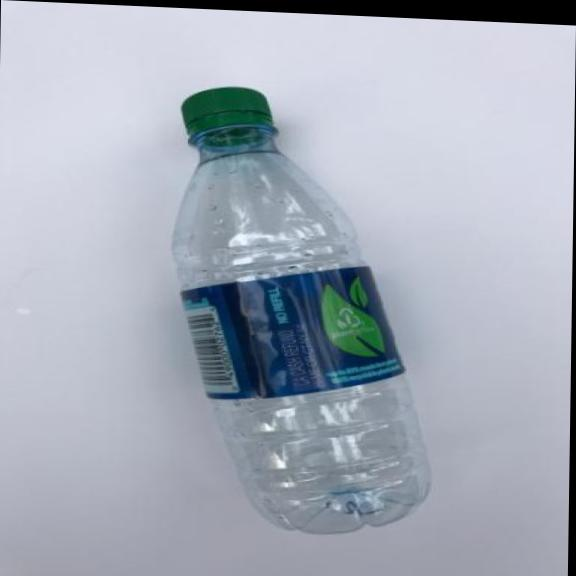Plastik: (157, 80, 445, 542)
